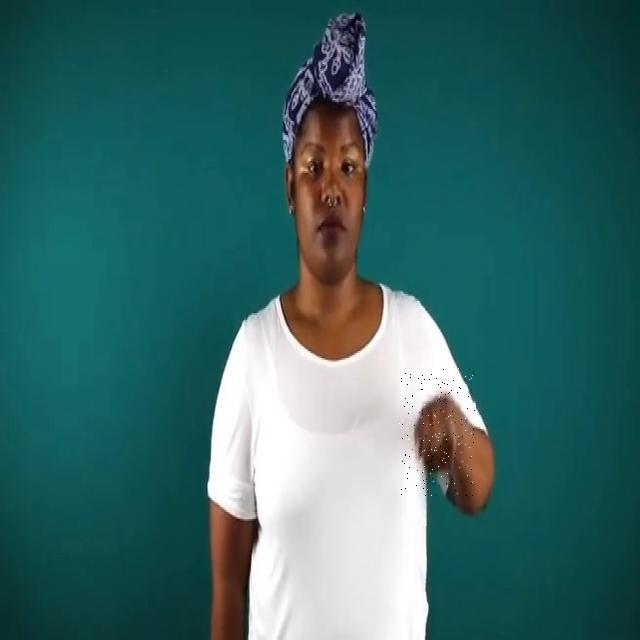bag: (399, 368, 475, 496)
